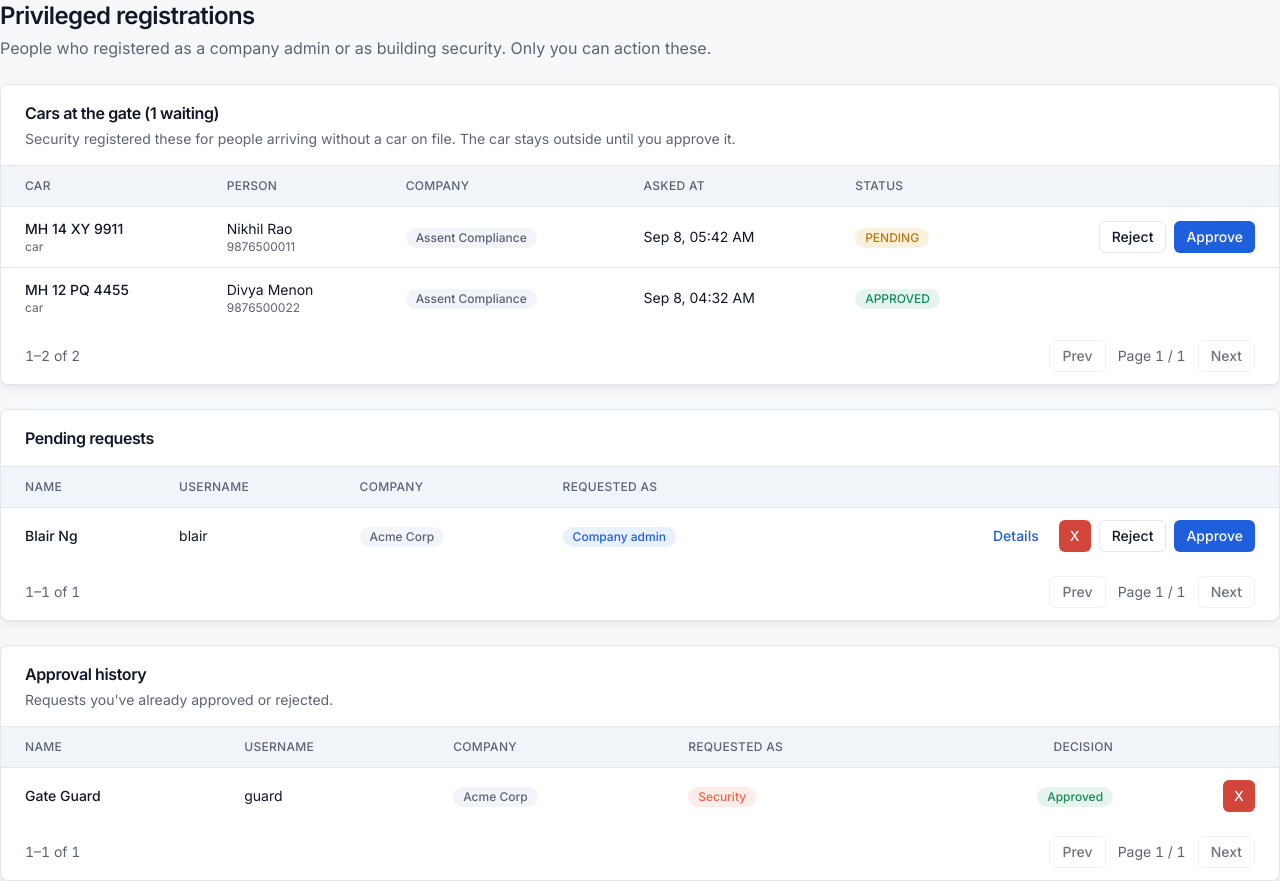
AdminApprovals › approves a pending company-admin request
Click the 2nd button "Approve". click: (1215, 536)
box: [1174,520,1255,552]
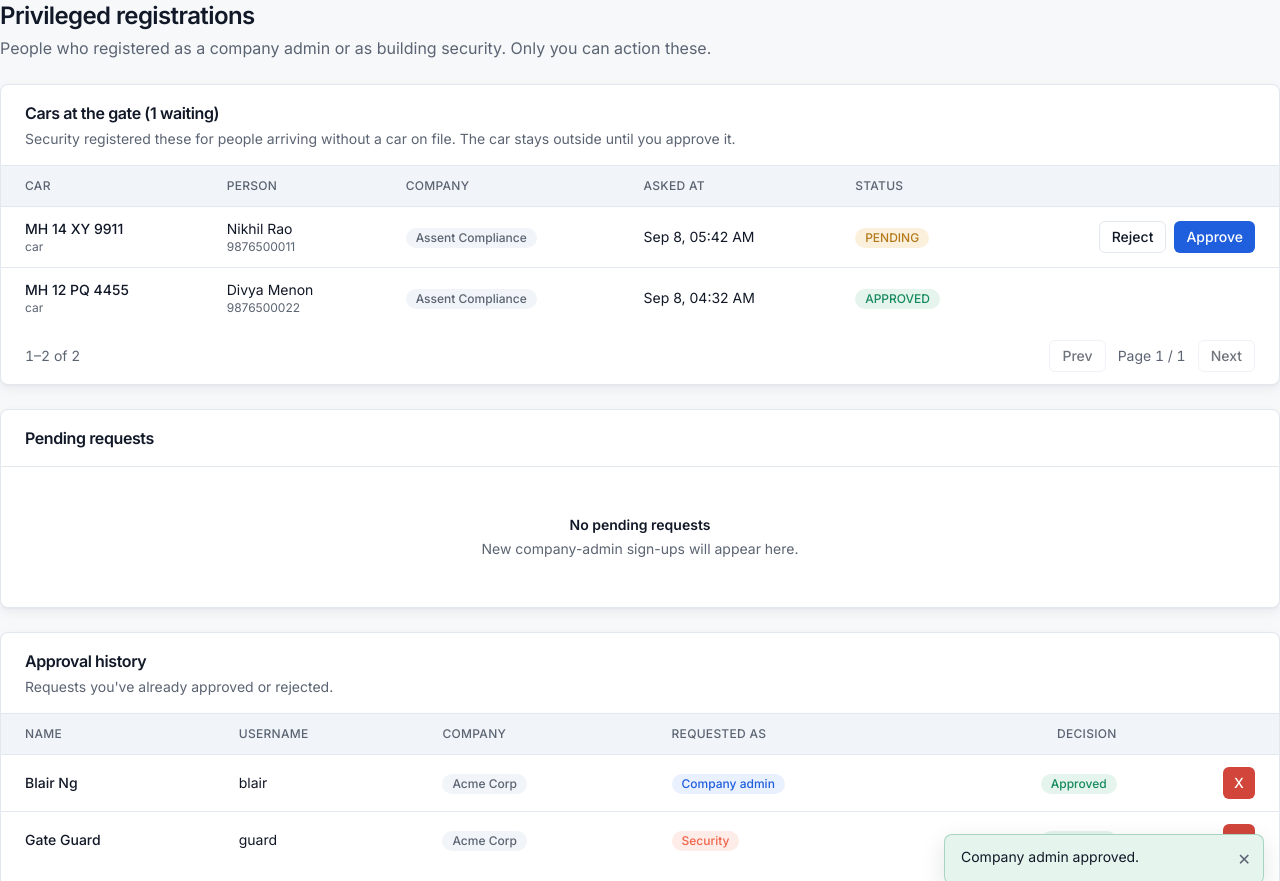
Now the text "Company admin approved." is shown, box [961,848,1139,865]
